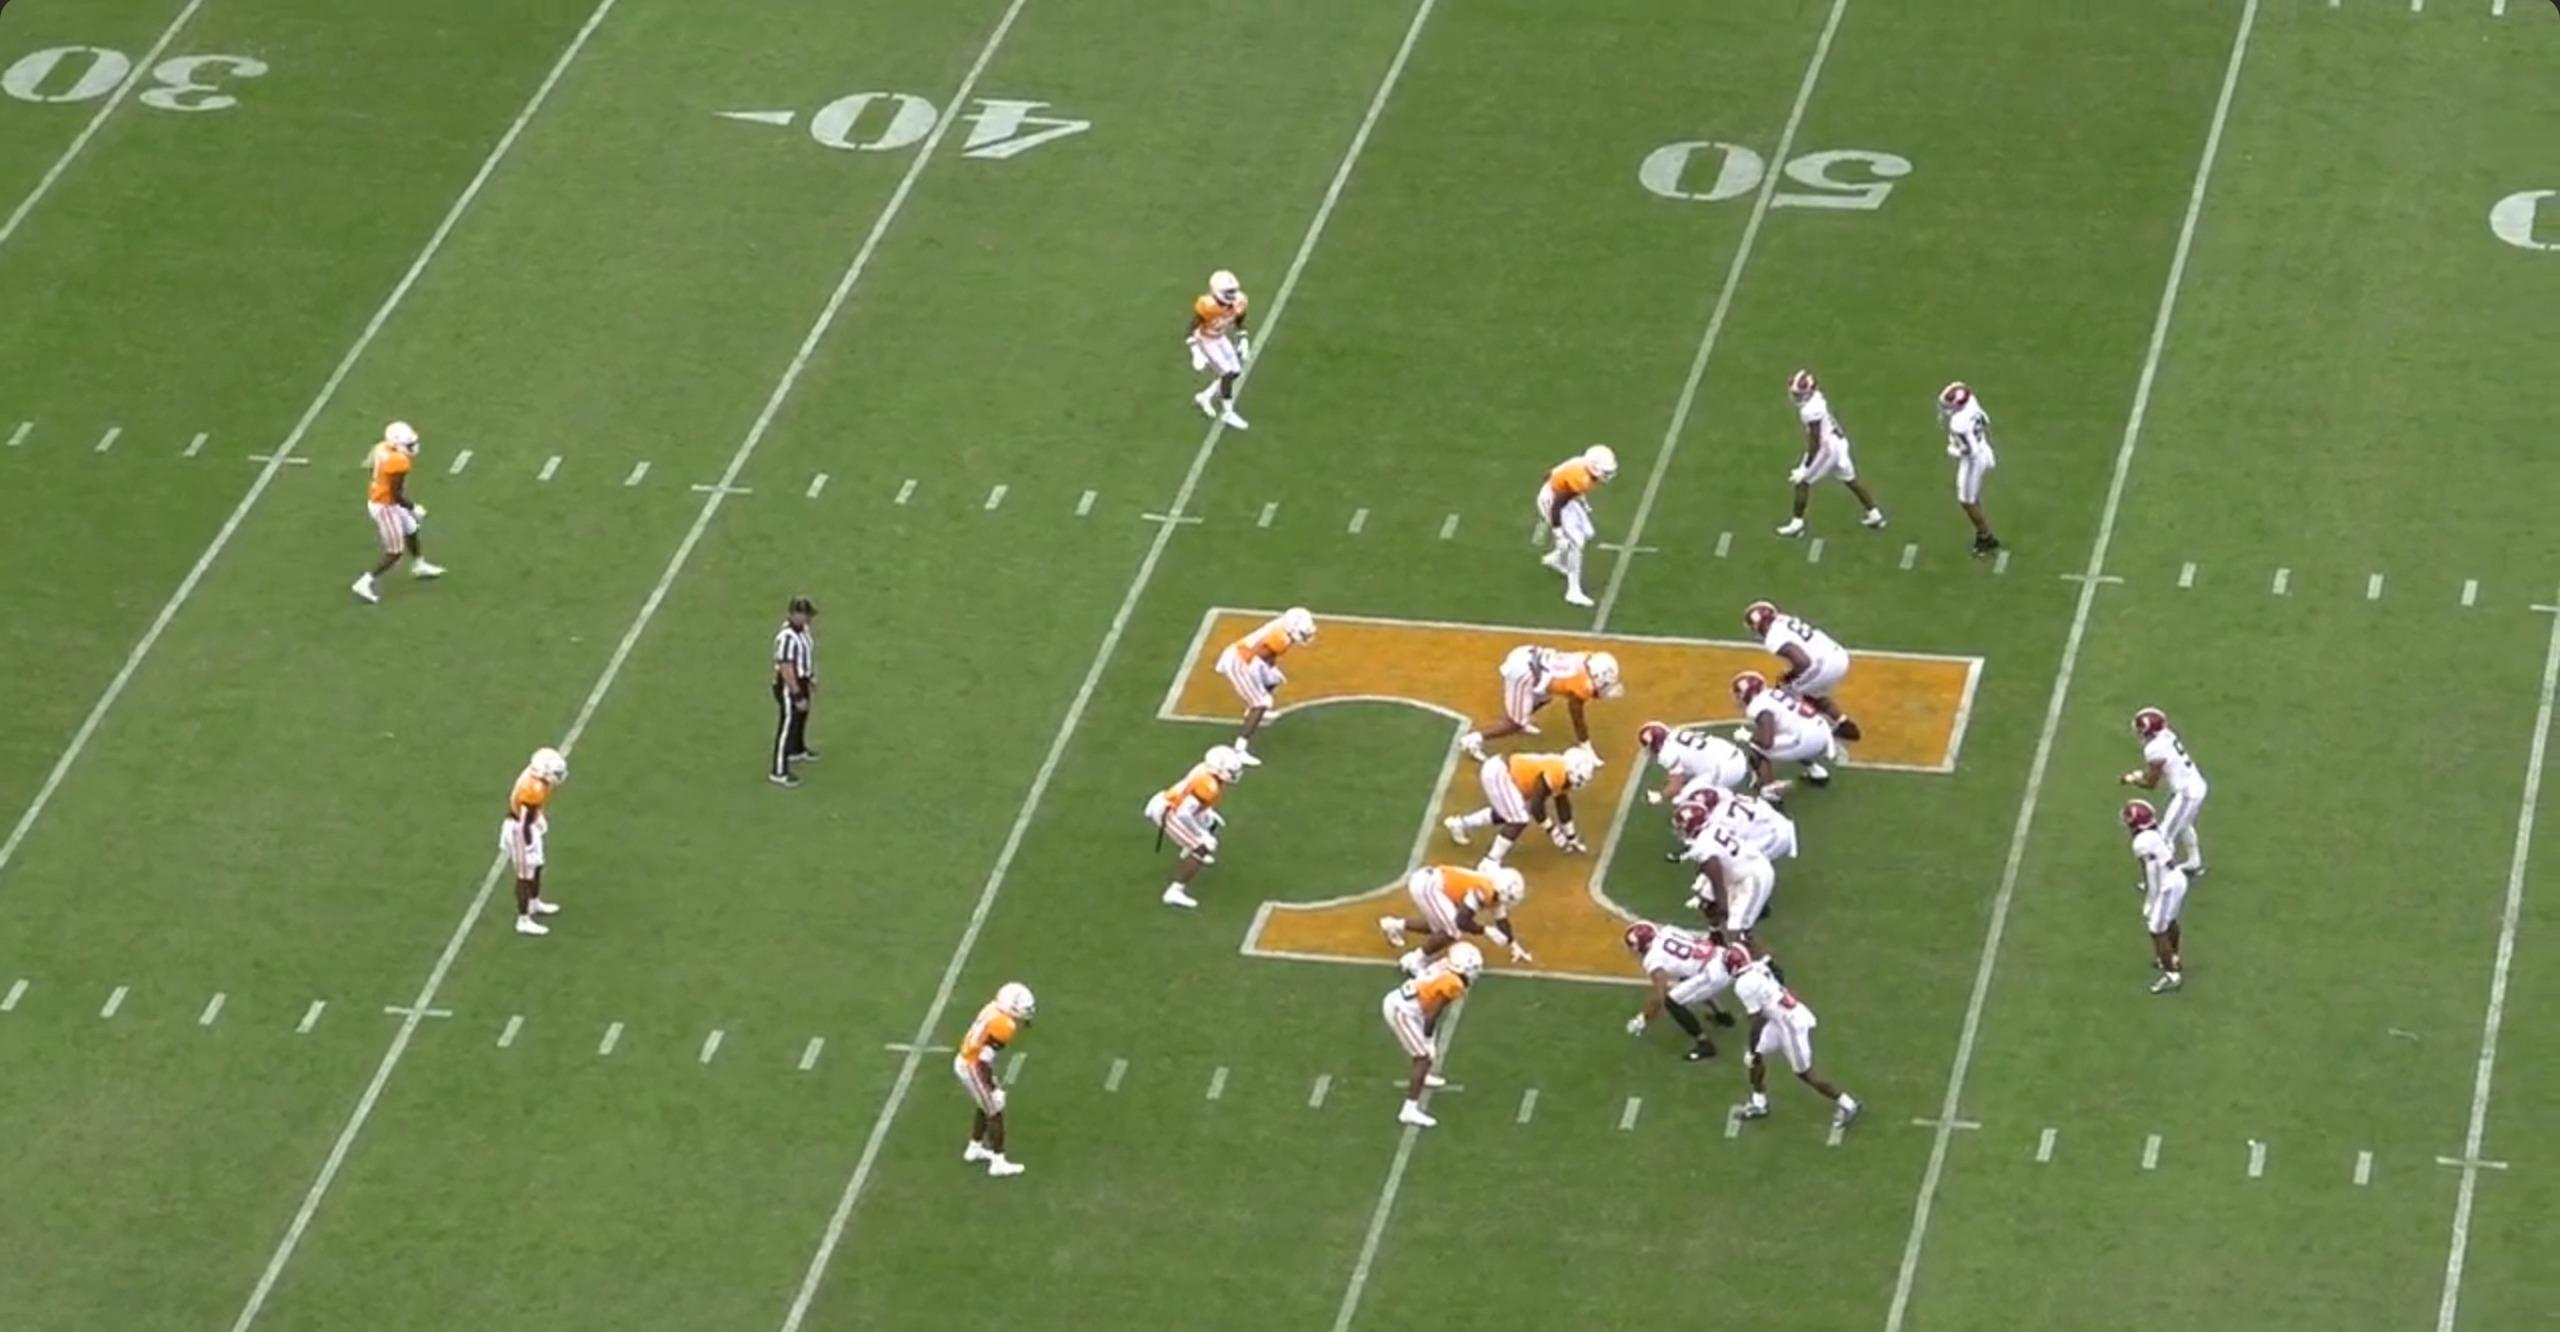defense: (940, 982, 1040, 1197), (1383, 939, 1493, 1134), (344, 411, 445, 611), (1439, 750, 1603, 868), (1465, 640, 1632, 755), (1146, 743, 1253, 922), (1211, 603, 1312, 772), (1526, 442, 1622, 618), (1373, 863, 1531, 970), (491, 738, 569, 946), (1175, 269, 1253, 443)
oline: (1735, 601, 1857, 750), (1674, 809, 1785, 958), (1732, 672, 1849, 809), (1632, 719, 1754, 814), (1683, 784, 1807, 870)
qb: (2123, 709, 2210, 894)
ref: (747, 589, 823, 794)
skill: (1720, 941, 1873, 1142), (1769, 369, 1895, 547), (1622, 917, 1757, 1065), (2118, 804, 2203, 1007), (1920, 374, 2001, 565)
